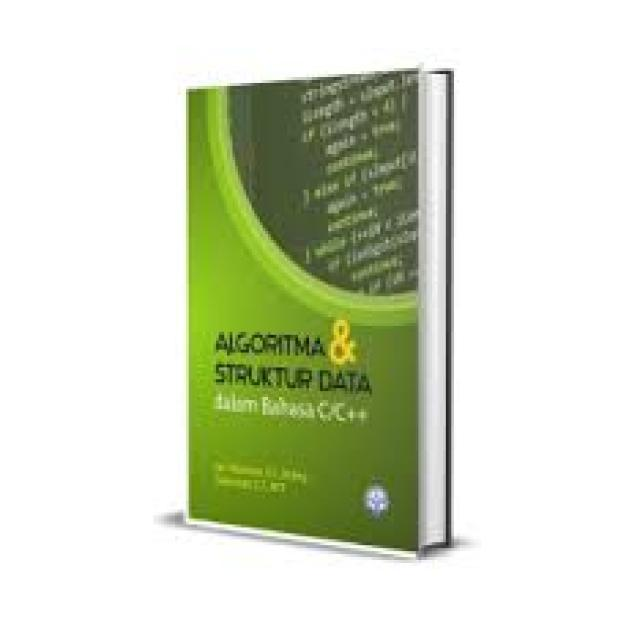book: (181, 69, 457, 555)
